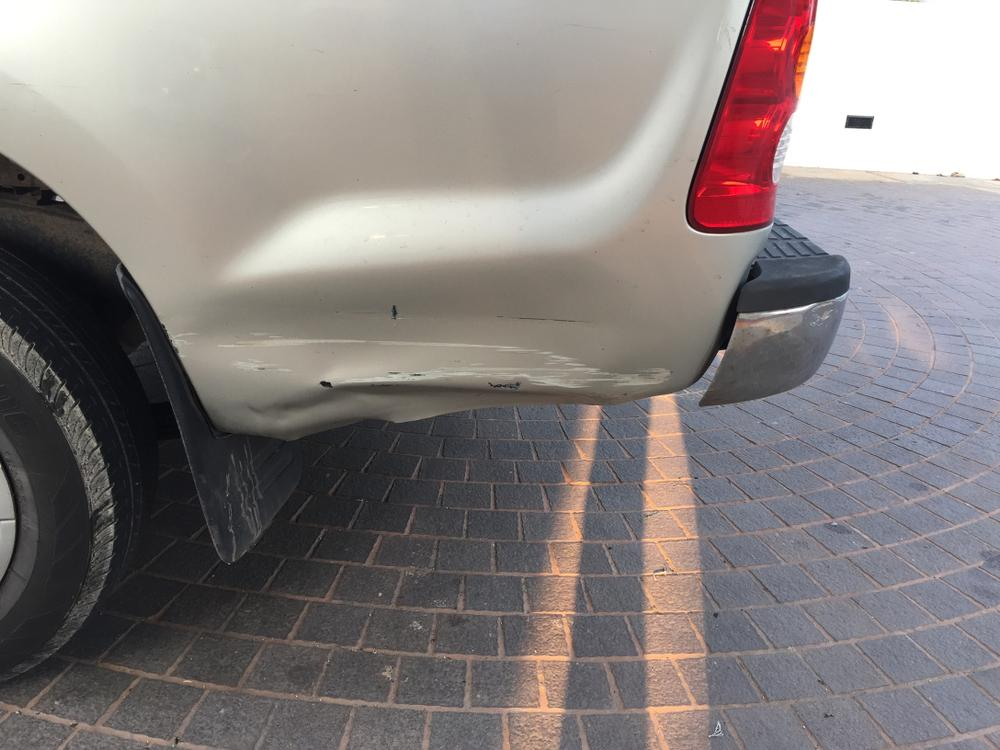scratch: (174, 323, 683, 393)
